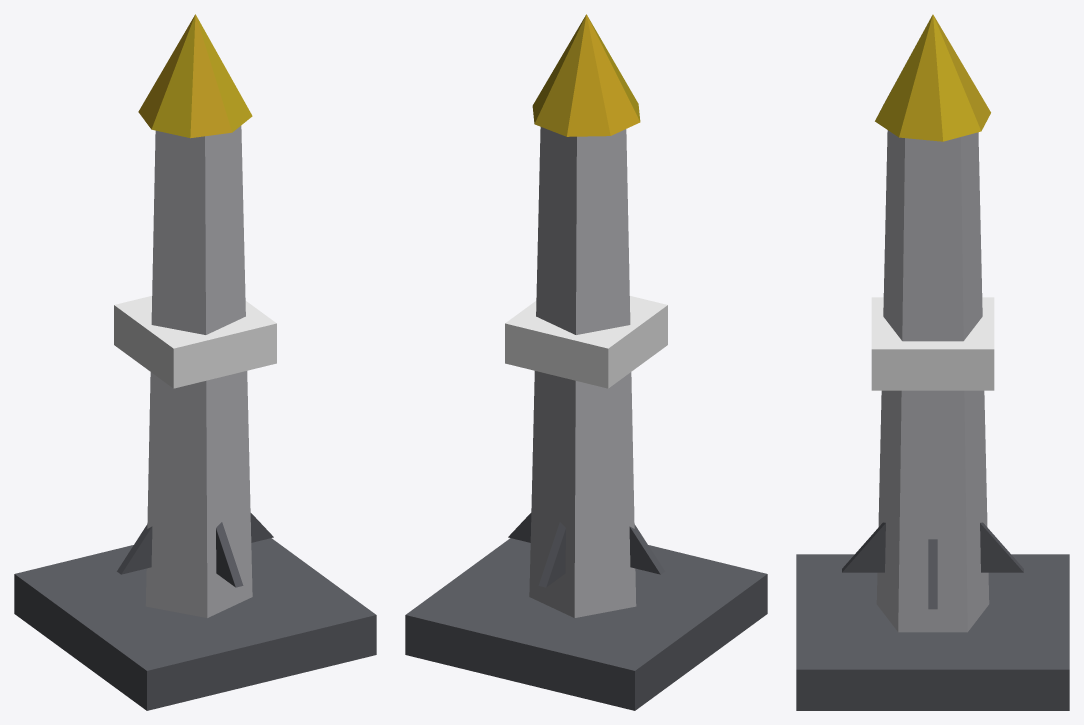
Rendered from Nuclear Missile.glb.
3 views of the same model, side by side, from view 1: azimuth 30°, elevation 25°; view 2: azimuth 150°, elevation 25°; view 3: azimuth 270°, elevation 25° (orthographic). The views are drawn at different scales.
Visible parts, largest first — view 1: Units_Nuclear Missile; view 2: Units_Nuclear Missile; view 3: Units_Nuclear Missile.
Boxes of the visible parts, x1,y1,x2,y2 form: Units_Nuclear Missile: [14, 14, 376, 710]; Units_Nuclear Missile: [405, 14, 767, 710]; Units_Nuclear Missile: [796, 14, 1069, 710].
Size of the model in its own units: 0.12 by 0.31 by 0.12.
